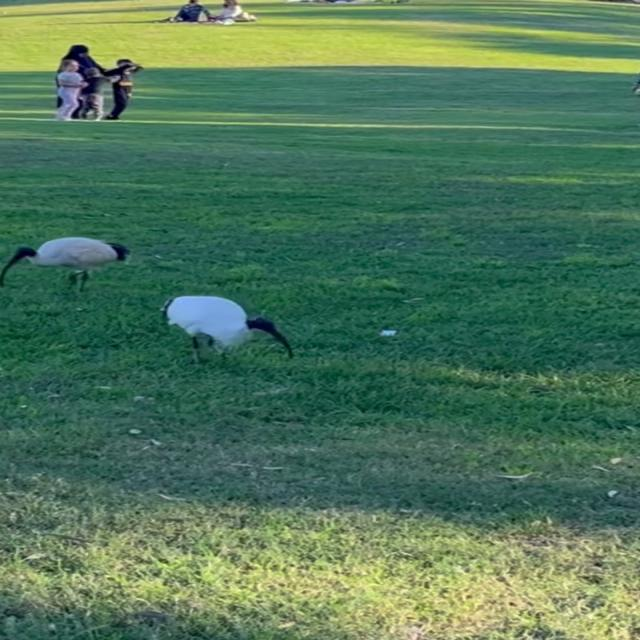Birds-Ibis: (158, 288, 300, 374), (0, 232, 136, 300)
